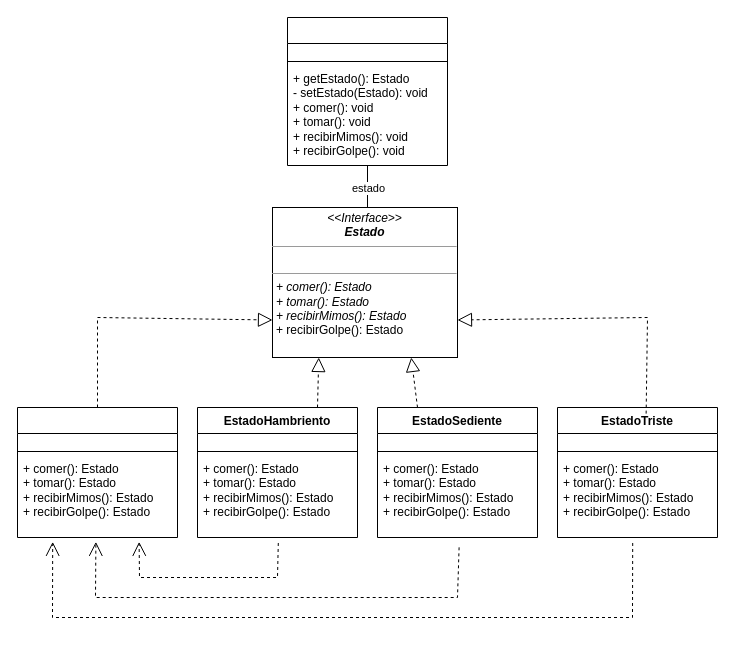
Image size: 735x649. Some labels were removed from this diagram. Here are the shapes that lost their labels. From the top down, the box of each, then its label:
(286, 16, 448, 166): Tamagochi
(16, 406, 178, 538): EstadoFeliz
